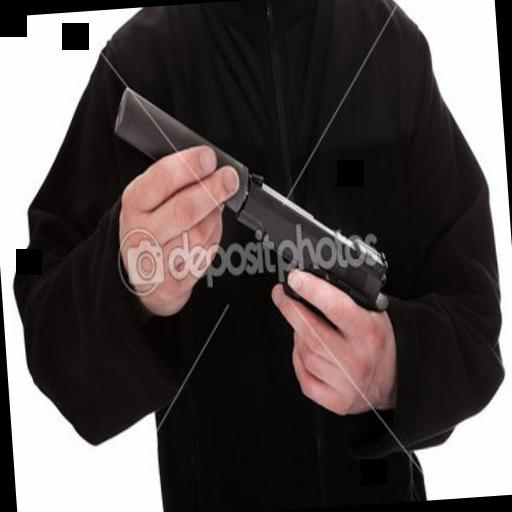Handgun: (105, 60, 399, 372)
